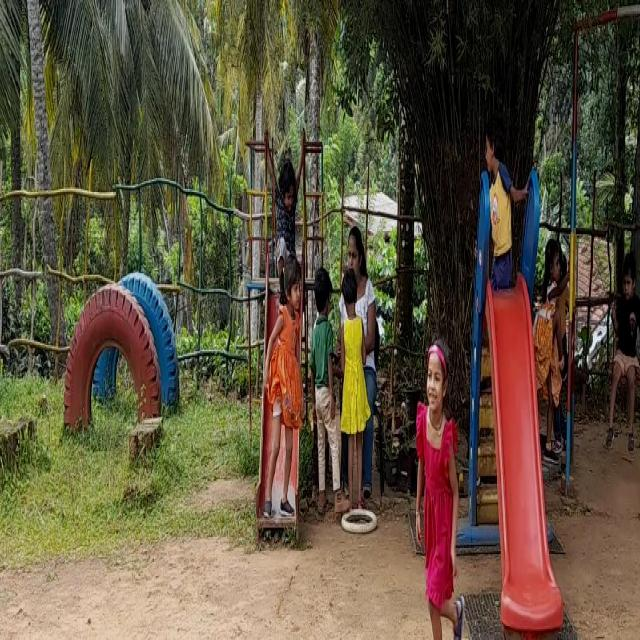child: (407, 324, 463, 640), (306, 263, 343, 508), (480, 124, 534, 288), (264, 251, 296, 524), (601, 230, 640, 440), (335, 273, 367, 506), (534, 198, 560, 428)
